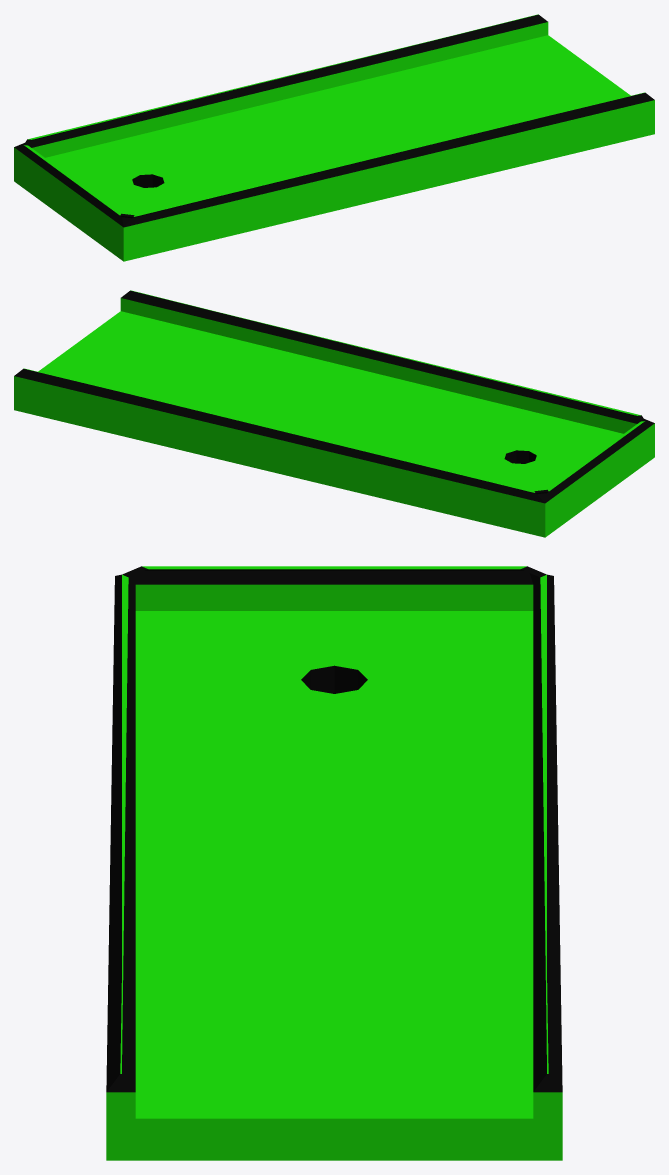
Rendered from GolfBoardV9.fbx.
3 views of the same model, one above another, from view 1: azimuth 30°, elevation 25°; view 2: azimuth 150°, elevation 25°; view 3: azimuth 270°, elevation 25° (orthographic). The views are drawn at different scales.
Visible parts, largest first — view 1: golf_Board.001; view 2: golf_Board.001; view 3: golf_Board.001.
Part boxes in pixels (box(x1,y1,x2,y2)): golf_Board.001: box(14, 14, 654, 261); golf_Board.001: box(14, 290, 654, 537); golf_Board.001: box(106, 566, 562, 1160).
Size of the model in its own units: 720 by 52.58 by 269.
